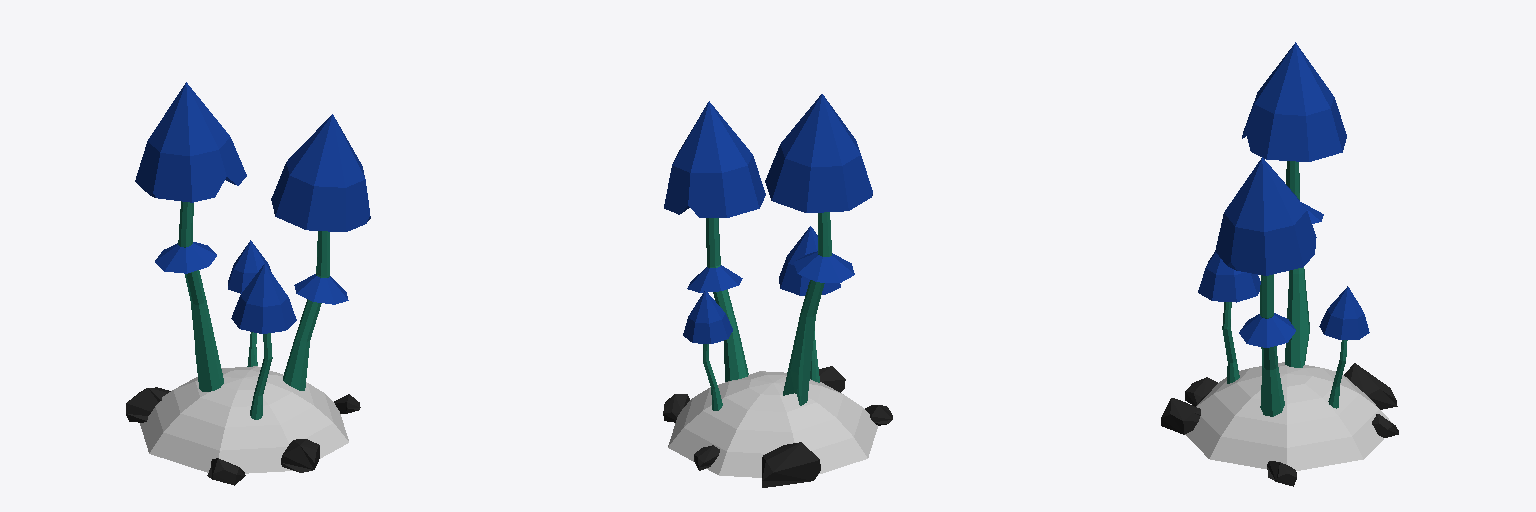
The model's file is mushroom1.obj.
3 renders of one model, left to right at view 1: azimuth 30°, elevation 25°; view 2: azimuth 150°, elevation 25°; view 3: azimuth 270°, elevation 25°, orthographic.
Visible parts, largest first — view 1: Sphere.009_Sphere.011, Cylinder.052_Cylinder.061, Cylinder.054_Cylinder.063, Cylinder.053_Cylinder.062, Cylinder.050_Cylinder.059, Cylinder.055_Cylinder.064, Cylinder.047_Cylinder.056, Cylinder.046_Cylinder.055, Cylinder.048_Cylinder.057, Cube.218_Cube.464, Cube.219_Cube.465, Cylinder.051_Cylinder.060 (+1 smaller); view 2: Sphere.009_Sphere.011, Cylinder.052_Cylinder.061, Cylinder.054_Cylinder.063, Cylinder.053_Cylinder.062, Cube.219_Cube.465, Cylinder.055_Cylinder.064, Cylinder.048_Cylinder.057, Cylinder.050_Cylinder.059, Cylinder.047_Cylinder.056, Cylinder.046_Cylinder.055; view 3: Sphere.009_Sphere.011, Cylinder.052_Cylinder.061, Cylinder.054_Cylinder.063, Cylinder.053_Cylinder.062, Cylinder.050_Cylinder.059, Cylinder.055_Cylinder.064, Cylinder.048_Cylinder.057, Cylinder.046_Cylinder.055, Cube.219_Cube.465, Cube.218_Cube.464, Cylinder.051_Cylinder.060, Cube.216_Cube.462 (+1 smaller).
Boxes of the visible parts, box(x1,y1,x2,y2) form: Sphere.009_Sphere.011: box(140, 366, 348, 473); Cylinder.052_Cylinder.061: box(135, 82, 246, 202); Cylinder.054_Cylinder.063: box(271, 114, 370, 231); Cylinder.053_Cylinder.062: box(178, 201, 223, 391); Cylinder.050_Cylinder.059: box(231, 264, 296, 333); Cylinder.055_Cylinder.064: box(283, 231, 329, 390); Cylinder.047_Cylinder.056: box(155, 242, 216, 273); Cylinder.046_Cylinder.055: box(294, 274, 348, 304); Cylinder.048_Cylinder.057: box(228, 240, 271, 293); Cube.218_Cube.464: box(281, 439, 319, 472); Cube.219_Cube.465: box(126, 387, 170, 422); Cylinder.051_Cylinder.060: box(250, 333, 272, 419); Sphere.009_Sphere.011: box(668, 371, 877, 477); Cylinder.052_Cylinder.061: box(765, 94, 872, 212); Cylinder.054_Cylinder.063: box(664, 101, 765, 217); Cylinder.053_Cylinder.062: box(783, 212, 831, 405); Cube.219_Cube.465: box(762, 442, 820, 487); Cylinder.055_Cylinder.064: box(706, 218, 748, 381); Cylinder.048_Cylinder.057: box(683, 290, 732, 343); Cylinder.050_Cylinder.059: box(779, 226, 840, 295); Cylinder.047_Cylinder.056: box(794, 251, 854, 282); Cylinder.046_Cylinder.055: box(687, 265, 742, 292); Sphere.009_Sphere.011: box(1185, 362, 1391, 470); Cylinder.052_Cylinder.061: box(1242, 42, 1346, 161); Cylinder.054_Cylinder.063: box(1215, 157, 1316, 275); Cylinder.053_Cylinder.062: box(1285, 161, 1309, 367); Cylinder.050_Cylinder.059: box(1198, 251, 1260, 302); Cylinder.055_Cylinder.064: box(1260, 274, 1284, 416); Cylinder.048_Cylinder.057: box(1319, 286, 1369, 339); Cylinder.046_Cylinder.055: box(1239, 313, 1295, 347); Cube.219_Cube.465: box(1344, 363, 1397, 409); Cube.218_Cube.464: box(1161, 398, 1200, 434); Cylinder.051_Cylinder.060: box(1222, 302, 1239, 383); Cube.216_Cube.462: box(1267, 461, 1296, 486).
Size of the model in its own units: 1.96 by 3.29 by 1.94.